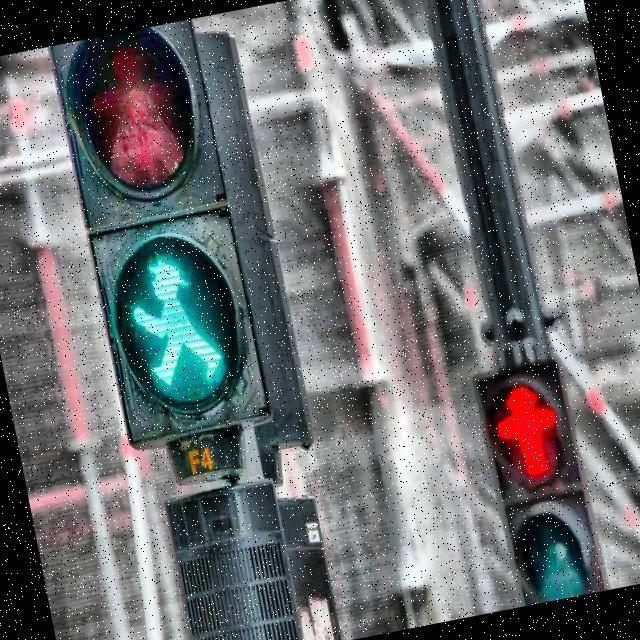green_light: (116, 243, 229, 398)
